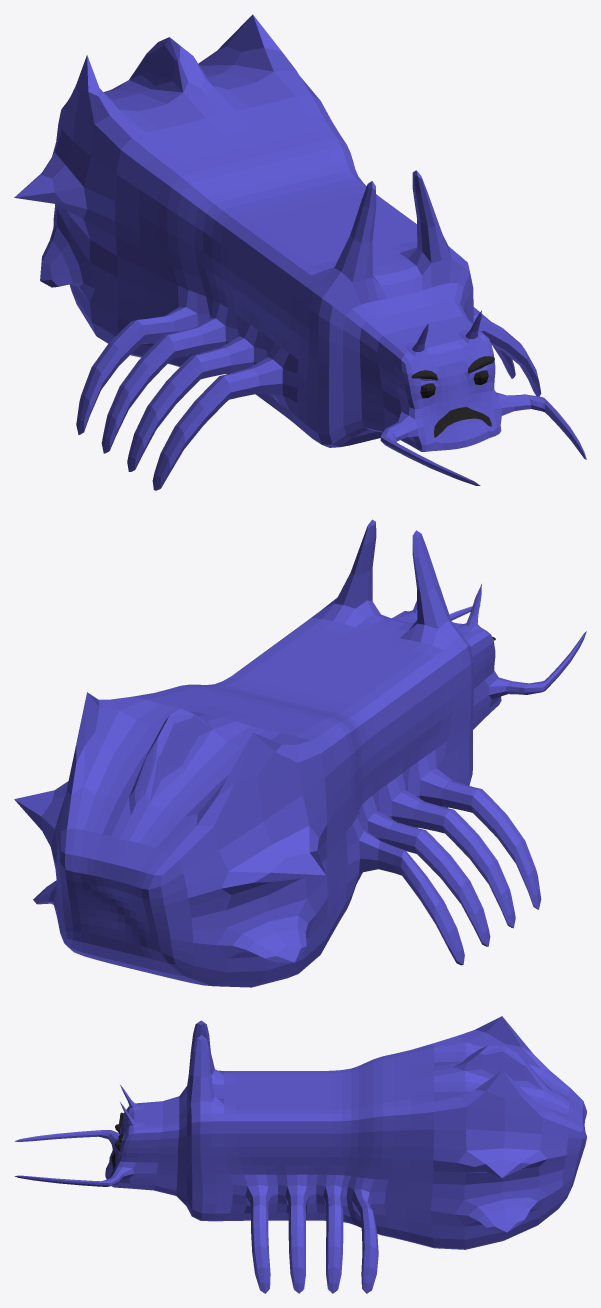
Rendered from Bug_enemy3.fbx.
3 views of the same model, one above another, from view 1: azimuth 30°, elevation 25°; view 2: azimuth 150°, elevation 25°; view 3: azimuth 270°, elevation 25° (orthographic). The views are drawn at different scales.
Visible parts, largest first — view 1: Cube; view 2: Cube; view 3: Cube.
Part boxes in pixels (<box>): Cube: <box>14,14,586,490</box>; Cube: <box>14,519,586,987</box>; Cube: <box>14,1016,586,1293</box>.
Size of the model in its own units: 330 by 248 by 633.
